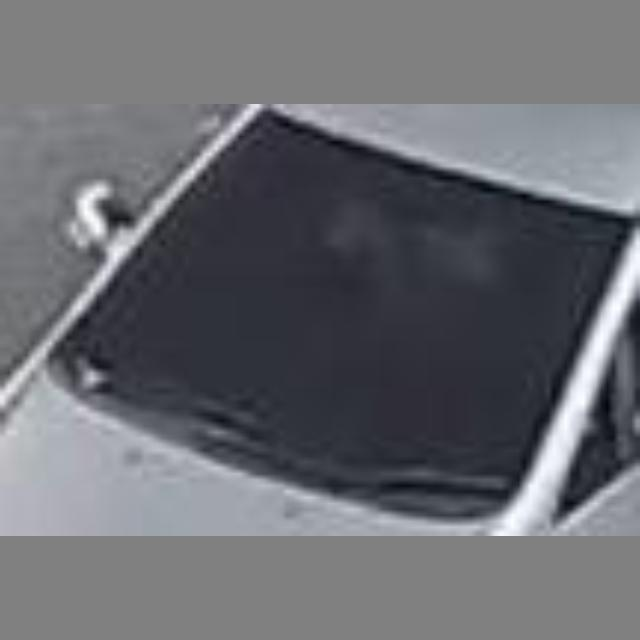pakai: (308, 157, 504, 365)
